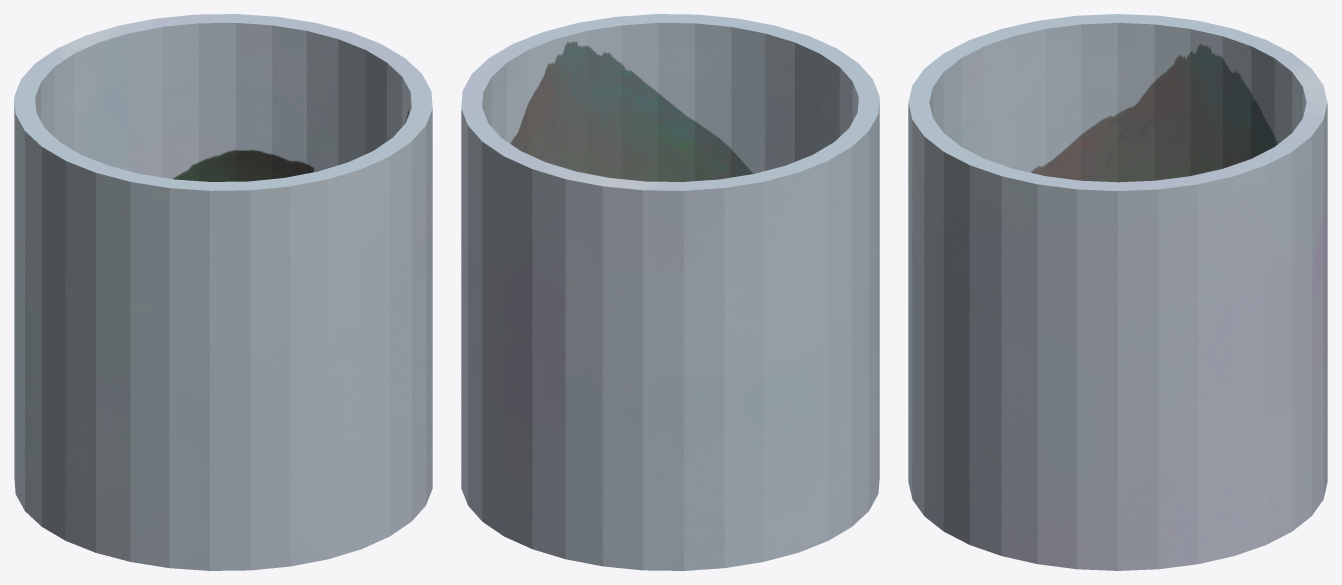
Rendered from CurvedWallsWithTestTexture.fbx.
The picture shows the model from 3 angles, left to right: view 1: azimuth 30°, elevation 25°; view 2: azimuth 150°, elevation 25°; view 3: azimuth 270°, elevation 25°; orthographic projection.
Visible parts, largest first — view 1: Cylinder; view 2: Cylinder; view 3: Cylinder.
Part boxes in pixels (<box>): Cylinder: <box>14,14,432,570</box>; Cylinder: <box>461,14,879,570</box>; Cylinder: <box>908,14,1327,570</box>.
Size of the model in its own units: 200 by 200 by 200.
